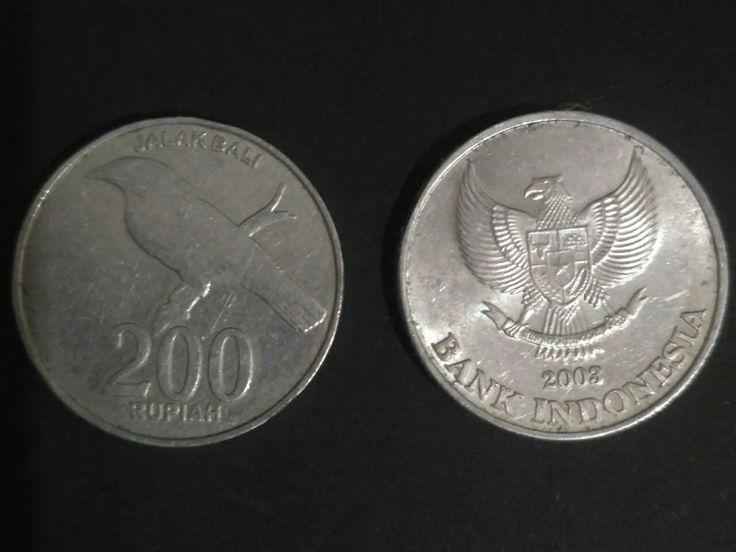coin_200_e2003: (6, 113, 350, 454), (393, 105, 728, 442)
